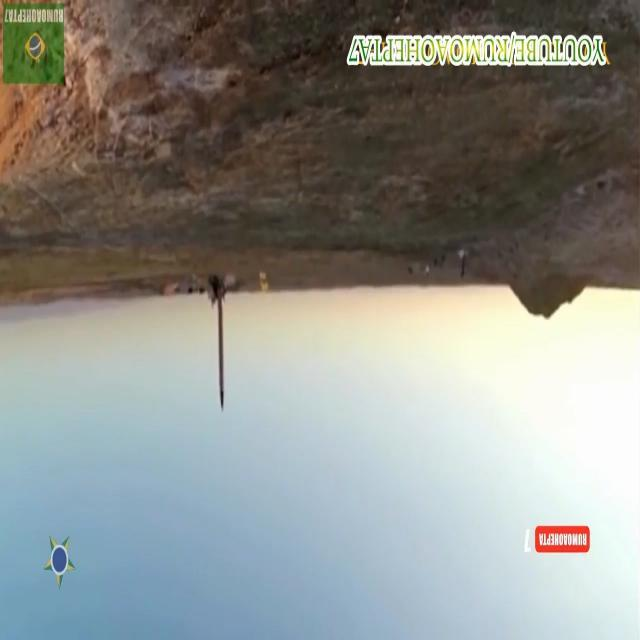missile: (214, 292, 228, 419)
